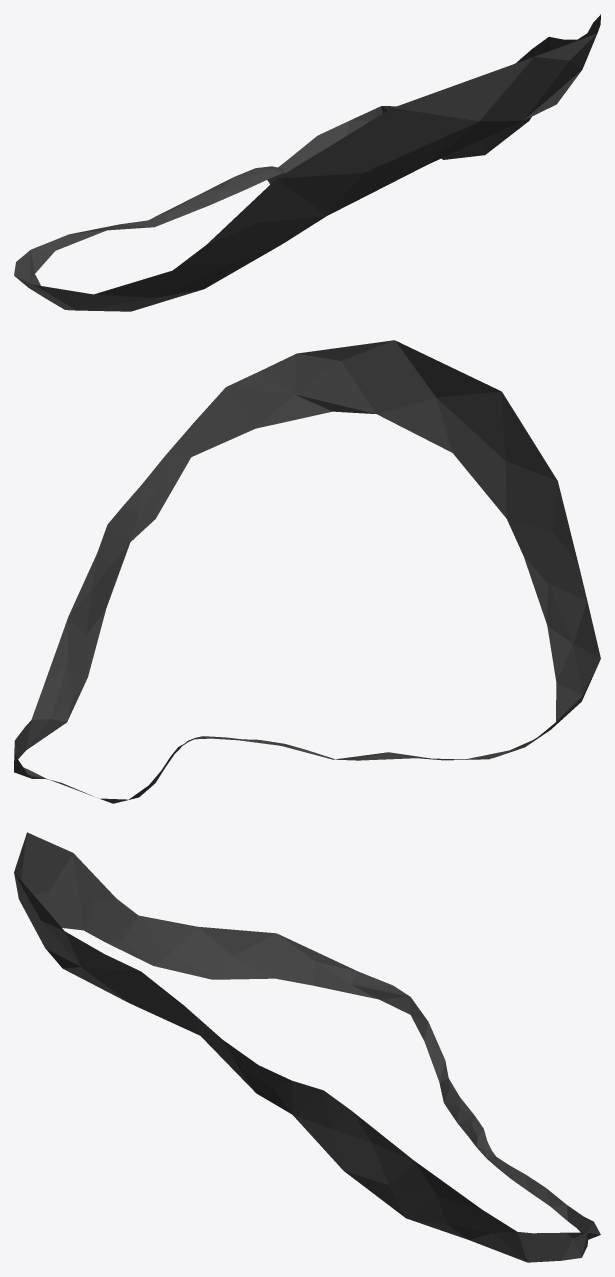
File: tuberosity_tibial_e.glb
3 renders of one model, top to bottom at view 1: azimuth 30°, elevation 25°; view 2: azimuth 150°, elevation 25°; view 3: azimuth 270°, elevation 25°, orthographic. The views are drawn at different scales.
Visible parts, largest first — view 1: tuberosity_tibial_e; view 2: tuberosity_tibial_e; view 3: tuberosity_tibial_e.
Part boxes in pixels (x1=…): tuberosity_tibial_e: x1=14, y1=14, x2=600, y2=311; tuberosity_tibial_e: x1=14, y1=340, x2=600, y2=803; tuberosity_tibial_e: x1=14, y1=832, x2=600, y2=1262.
Bounding box in the file's own units: 0.00151 × 0.000932 × 0.0015.
Materials: 1 (1 with a texture image).
